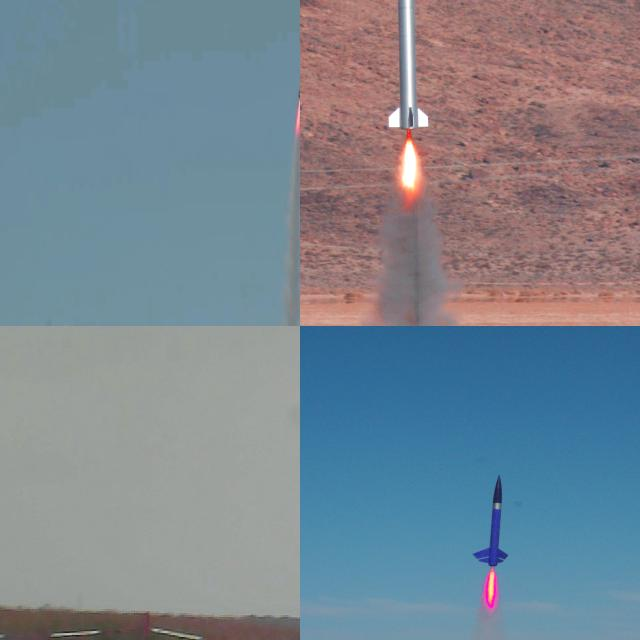Rocket: (388, 0, 429, 130), (471, 474, 509, 568), (298, 35, 300, 99)
